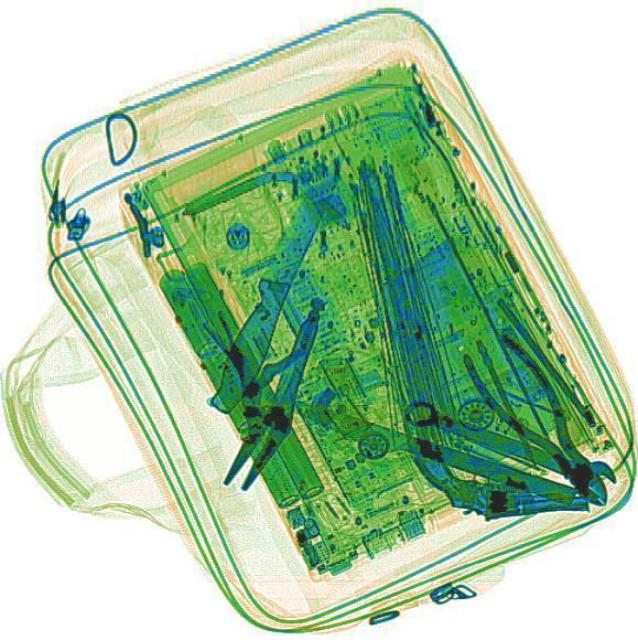Gun: (403, 417, 586, 518)
Knife: (203, 143, 357, 414), (261, 385, 574, 511)
Pliers: (453, 324, 618, 510)
Wrench: (394, 389, 621, 505)
